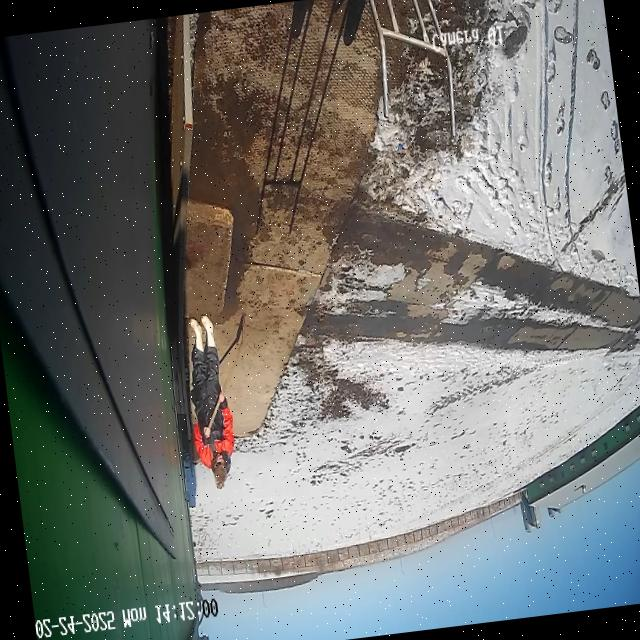Red uniform: (176, 310, 242, 492)
